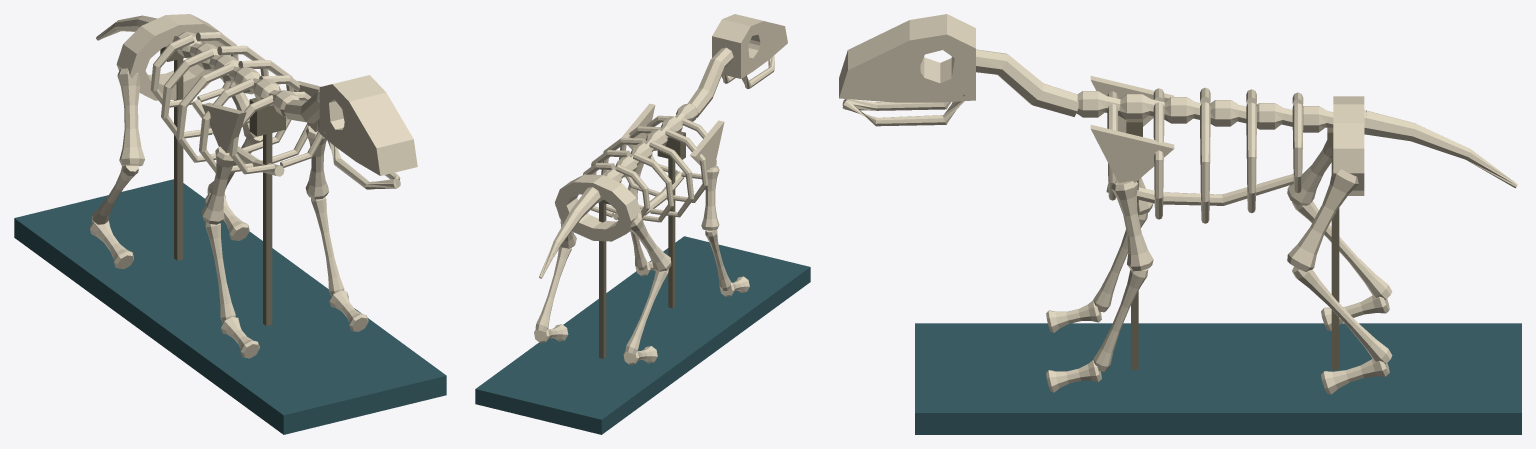
3 views of the same model, side by side, from view 1: azimuth 30°, elevation 25°; view 2: azimuth 150°, elevation 25°; view 3: azimuth 270°, elevation 25° (orthographic). The views are drawn at different scales.
Parts seen in each view (by area): view 1: WholeDedicatedGroundBase, WholeThickLongMuzzleOrbitalSkull, WholeOpenPelvicGirdle, WholeContinuousSwelledSpine, WholeFixedMountPost0, LeftWholeHindThigh, WholeFixedMountPost1, LeftWholeUpperForeLimb, LeftWholeTriangularScapula, LeftWholeArchedRib2, LeftWholeLowerForeLimb, LeftWholeArchedRib3 (+20 smaller); view 2: WholeDedicatedGroundBase, WholeOpenPelvicGirdle, WholeThickLongMuzzleOrbitalSkull, WholeContinuousSwelledSpine, WholeAscendingNeck, WholeTaperedCaudalChain, WholeFixedMountPost1, WholeFixedMountPost0, LeftWholeHindThigh, LeftWholeHindShank, RightWholeHindShank, LeftWholeTriangularScapula (+16 smaller); view 3: WholeDedicatedGroundBase, WholeThickLongMuzzleOrbitalSkull, WholeContinuousSwelledSpine, WholeAscendingNeck, WholeOpenPelvicGirdle, RightWholeTriangularScapula, WholeTaperedCaudalChain, RightWholeHindThigh, RightWholeUpperForeLimb, RightWholeHindShank, WholeLongSternum, RightWholeLowerForeLimb (+15 smaller).
Boxes of the visible parts, bbox=[...] form: WholeDedicatedGroundBase: bbox=[14, 179, 446, 434]; WholeThickLongMuzzleOrbitalSkull: bbox=[319, 75, 417, 175]; WholeOpenPelvicGirdle: bbox=[116, 14, 226, 100]; WholeContinuousSwelledSpine: bbox=[172, 31, 299, 116]; WholeFixedMountPost0: bbox=[263, 133, 272, 325]; LeftWholeHindThigh: bbox=[117, 68, 144, 166]; WholeFixedMountPost1: bbox=[174, 58, 183, 260]; LeftWholeUpperForeLimb: bbox=[201, 146, 234, 224]; LeftWholeTriangularScapula: bbox=[202, 102, 246, 152]; LeftWholeArchedRib2: bbox=[176, 63, 234, 162]; LeftWholeLowerForeLimb: bbox=[205, 222, 235, 322]; LeftWholeArchedRib3: bbox=[161, 49, 213, 138]; WholeDedicatedGroundBase: bbox=[475, 236, 810, 434]; WholeOpenPelvicGirdle: bbox=[554, 174, 641, 241]; WholeThickLongMuzzleOrbitalSkull: bbox=[712, 14, 787, 78]; WholeContinuousSwelledSpine: bbox=[587, 103, 697, 202]; WholeAscendingNeck: bbox=[688, 47, 733, 117]; WholeTaperedCaudalChain: bbox=[539, 188, 599, 278]; WholeFixedMountPost1: bbox=[599, 202, 606, 358]; WholeFixedMountPost0: bbox=[668, 159, 675, 308]; LeftWholeHindThigh: bbox=[630, 213, 671, 271]; LeftWholeHindShank: bbox=[625, 269, 668, 355]; RightWholeHindShank: bbox=[535, 246, 571, 332]; LeftWholeTriangularScapula: bbox=[690, 120, 724, 169]; WholeDedicatedGroundBase: bbox=[915, 323, 1521, 434]; WholeThickLongMuzzleOrbitalSkull: bbox=[839, 14, 975, 102]; WholeContinuousSwelledSpine: bbox=[1076, 91, 1366, 134]; WholeAscendingNeck: bbox=[976, 49, 1078, 116]; WholeOpenPelvicGirdle: bbox=[1333, 96, 1364, 195]; RightWholeTriangularScapula: bbox=[1090, 125, 1174, 182]; WholeTaperedCaudalChain: bbox=[1365, 110, 1517, 188]; RightWholeHindThigh: bbox=[1287, 169, 1358, 271]; RightWholeUpperForeLimb: bbox=[1111, 180, 1153, 270]; RightWholeHindShank: bbox=[1292, 266, 1392, 363]; WholeLongSternum: bbox=[1106, 174, 1293, 205]; RightWholeLowerForeLimb: bbox=[1093, 269, 1148, 371].
Bounding box in the file's own units: 0.96 × 1.83 × 3.1.
